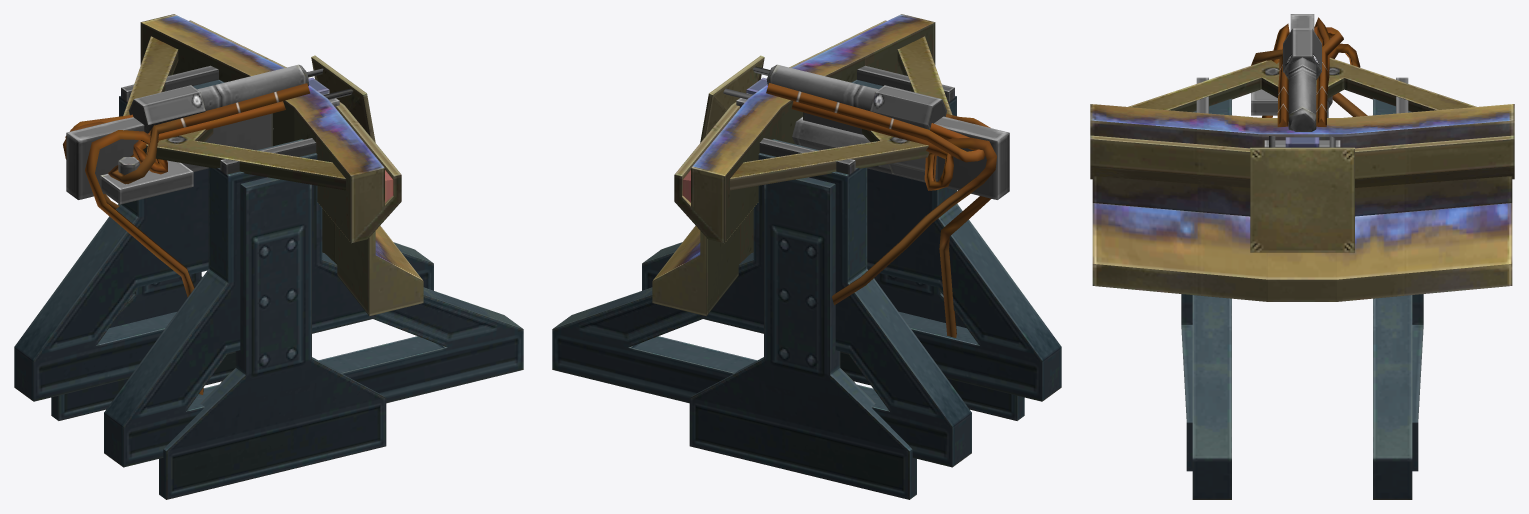
File: S_Trap_124_eradio.fbx
The picture shows the model from 3 angles, left to right: view 1: azimuth 30°, elevation 25°; view 2: azimuth 150°, elevation 25°; view 3: azimuth 270°, elevation 25°; orthographic projection.
Parts seen in each view (by area): view 1: S_Trap_124_eradio; view 2: S_Trap_124_eradio; view 3: S_Trap_124_eradio.
Boxes of the visible parts, <box> form: S_Trap_124_eradio: <box>14,14,523,499</box>; S_Trap_124_eradio: <box>552,14,1061,499</box>; S_Trap_124_eradio: <box>1090,14,1514,499</box>.
Bounding box in the file's own units: 0.956 × 0.7939 × 0.8722.
Materials: 1 (1 with a texture image).
